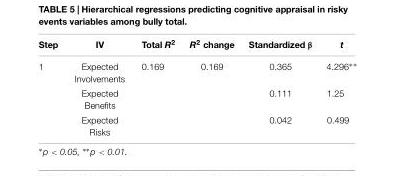table: (37, 37, 355, 136)
table column: (240, 37, 318, 136), (65, 37, 132, 136), (181, 37, 240, 136), (132, 37, 181, 136), (318, 37, 355, 136), (37, 37, 65, 136)
table column header: (37, 37, 355, 54)
table row: (37, 54, 355, 85), (37, 85, 355, 111), (37, 111, 355, 136), (37, 37, 355, 54)
table spanning cell: (37, 54, 65, 136)
